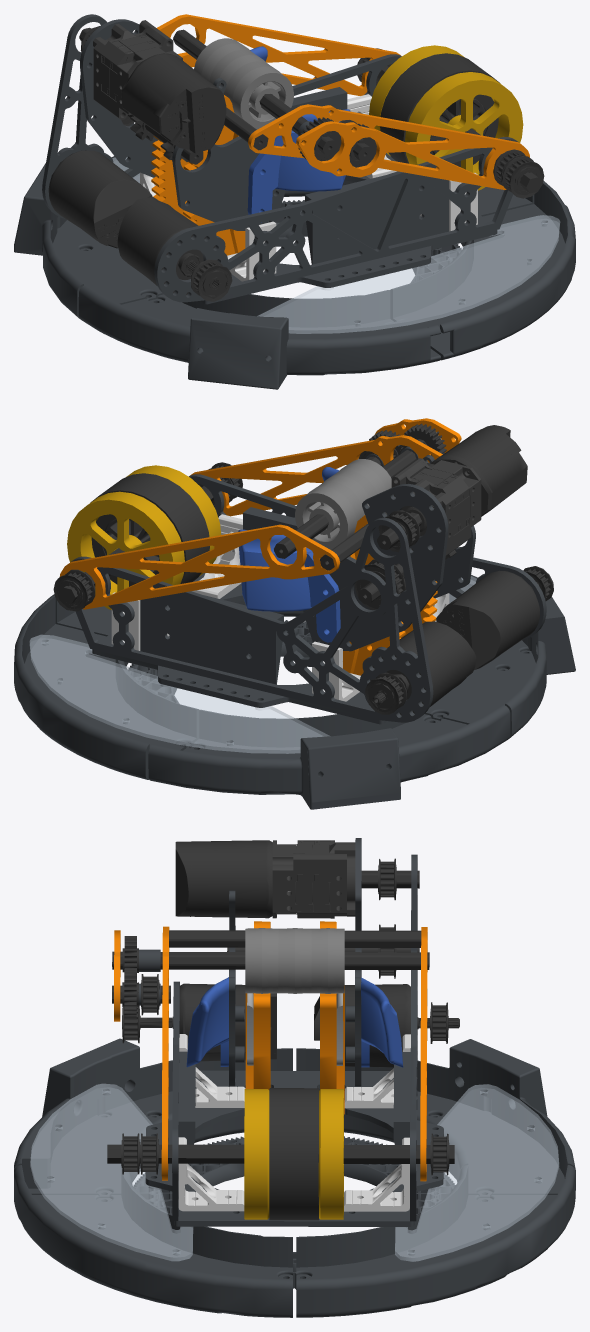
Rendered from 8793-turret.glb.
3 views of the same model, one above another, from view 1: azimuth 30°, elevation 25°; view 2: azimuth 150°, elevation 25°; view 3: azimuth 270°, elevation 25° (orthographic). The views are drawn at different scales.
Visible parts, largest first — view 1: Cable Carrier Quadrant 1, 28t Steel Spur Gear (20 DP, 1/2" Hex Bore), Part 13, Part 4, SDS 4in Flywheel, 2" Stealth Wheel (80A, 1/2" Hex Bore), MAXPlanetary 5:1 Slice, Part 17, 1" Inside Corner Bracket; view 2: Cable Carrier Quadrant 1, 28t Steel Spur Gear (20 DP, 1/2" Hex Bore), Part 13, Part 4, SDS 4in Flywheel, Part 17, 2" Stealth Wheel (80A, 1/2" Hex Bore), MAXPlanetary 5:1 Slice, 1" Inside Corner Bracket; view 3: Cable Carrier Quadrant 1, 28t Steel Spur Gear (20 DP, 1/2" Hex Bore), Part 4, Part 13, 1" Inside Corner Bracket, SDS 4in Flywheel, 2" Stealth Wheel (80A, 1/2" Hex Bore), MAXPlanetary 5:1 Slice, Part 17, Part 14.
Boxes of the visible parts, x1,y1,x2,y2 form: Cable Carrier Quadrant 1: [14, 14, 575, 389]; 28t Steel Spur Gear (20 DP, 1/2" Hex Bore): [48, 25, 544, 301]; Part 13: [151, 14, 529, 255]; Part 4: [112, 157, 560, 333]; SDS 4in Flywheel: [369, 45, 523, 190]; 2" Stealth Wheel (80A, 1/2" Hex Bore): [194, 38, 293, 129]; MAXPlanetary 5:1 Slice: [93, 20, 182, 119]; Part 17: [247, 46, 350, 222]; 1" Inside Corner Bracket: [140, 94, 477, 281]; Cable Carrier Quadrant 1: [14, 441, 575, 809]; 28t Steel Spur Gear (20 DP, 1/2" Hex Bore): [53, 423, 553, 715]; Part 13: [59, 418, 461, 675]; Part 4: [29, 576, 476, 753]; SDS 4in Flywheel: [67, 465, 221, 609]; Part 17: [238, 467, 340, 642]; 2" Stealth Wheel (80A, 1/2" Hex Bore): [295, 459, 391, 549]; MAXPlanetary 5:1 Slice: [391, 458, 481, 555]; 1" Inside Corner Bracket: [111, 514, 449, 701]; Cable Carrier Quadrant 1: [14, 838, 575, 1317]; 28t Steel Spur Gear (20 DP, 1/2" Hex Bore): [107, 840, 459, 1220]; Part 4: [30, 1083, 559, 1261]; Part 13: [114, 921, 427, 1181]; 1" Inside Corner Bracket: [178, 1034, 410, 1211]; SDS 4in Flywheel: [244, 1089, 343, 1219]; 2" Stealth Wheel (80A, 1/2" Hex Bore): [245, 928, 344, 993]; MAXPlanetary 5:1 Slice: [272, 840, 355, 918]; Part 17: [186, 977, 403, 1067]; Part 14: [247, 993, 343, 1065].
Size of the model in its own units: 0.4318 by 0.2486 by 0.4315.
